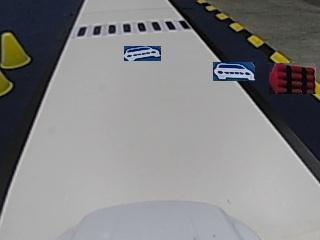crosswalk: (74, 20, 188, 37)
